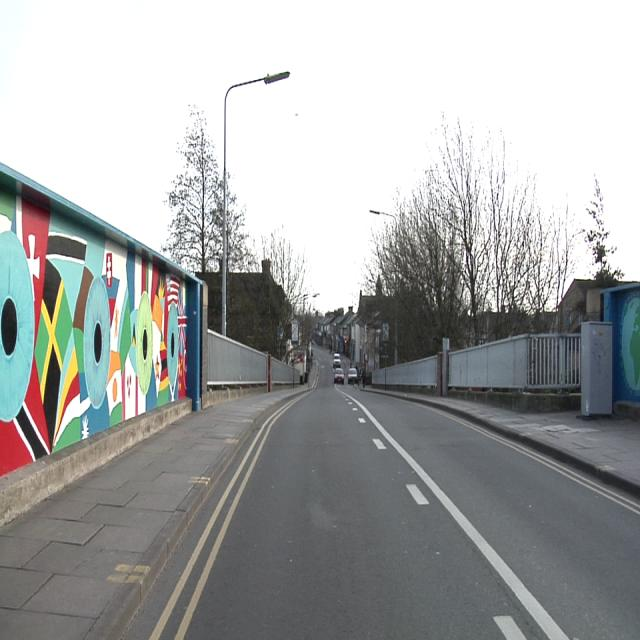Building: (2, 164, 268, 528), (315, 297, 590, 389), (604, 283, 640, 411)
Car: (348, 368, 358, 383), (334, 368, 344, 382)
Road: (159, 351, 636, 637)
Tree: (359, 114, 620, 359), (165, 103, 222, 271), (257, 226, 315, 359), (228, 170, 249, 269)
